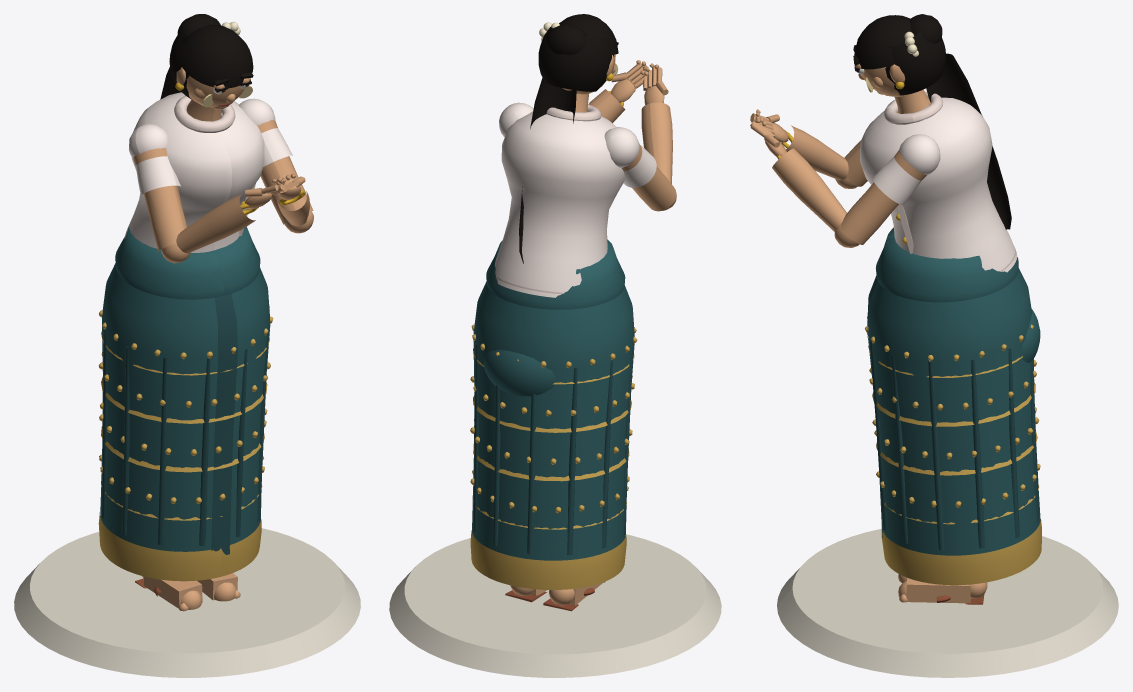
The model's file is myanmar_woman.glb.
The picture shows the model from 3 angles, left to right: view 1: azimuth 30°, elevation 25°; view 2: azimuth 150°, elevation 25°; view 3: azimuth 270°, elevation 25°; orthographic projection. The views are drawn at different scales.
Visible parts, largest first — view 1: htamein_silk, base_stone, aingyi_blouse, skin, htamein_shade, htamein_pattern, hair, aingyi_shade; view 2: htamein_silk, base_stone, aingyi_blouse, htamein_pattern, skin, hair, htamein_shade, aingyi_shade; view 3: htamein_silk, base_stone, aingyi_blouse, skin, htamein_pattern, hair, htamein_shade, aingyi_shade.
Part boxes in pixels (<box>): htamein_silk: <box>100,226,270,551</box>; base_stone: <box>14,528,360,677</box>; aingyi_blouse: <box>124,92,292,252</box>; skin: <box>133,67,313,611</box>; htamein_shade: <box>102,294,268,554</box>; htamein_pattern: <box>98,306,273,581</box>; hair: <box>160,14,253,99</box>; aingyi_shade: <box>174,95,255,235</box>; htamein_silk: <box>472,239,634,560</box>; base_stone: <box>389,534,721,677</box>; aingyi_blouse: <box>495,102,656,297</box>; htamein_pattern: <box>470,324,637,589</box>; skin: <box>510,54,676,605</box>; hair: <box>519,14,618,263</box>; htamein_shade: <box>473,344,632,554</box>; aingyi_shade: <box>495,104,601,294</box>; htamein_silk: <box>868,227,1040,555</box>; base_stone: <box>777,529,1118,677</box>; aingyi_blouse: <box>860,88,1017,272</box>; skin: <box>750,63,987,603</box>; htamein_pattern: <box>865,315,1041,585</box>; hair: <box>853,14,1011,229</box>; htamein_shade: <box>867,275,1038,550</box>; aingyi_shade: <box>884,91,1015,271</box>.
Bounding box in the file's own units: 0.88 × 1.67 × 0.9489.
